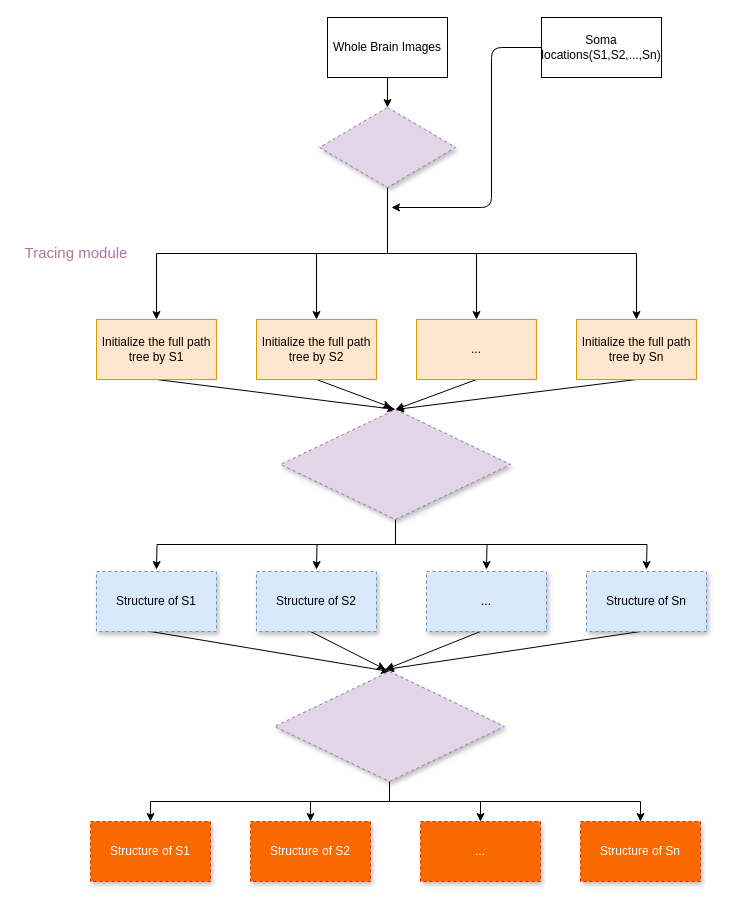
This 730x906 diagram has some shape labels left out. Each missing label, with the centre of its shape:
"Image Pre-processing" goes at point (388, 148).
"Multiple soma auto-tracing" goes at point (396, 465).
"Structural post-processing" goes at point (390, 727).
